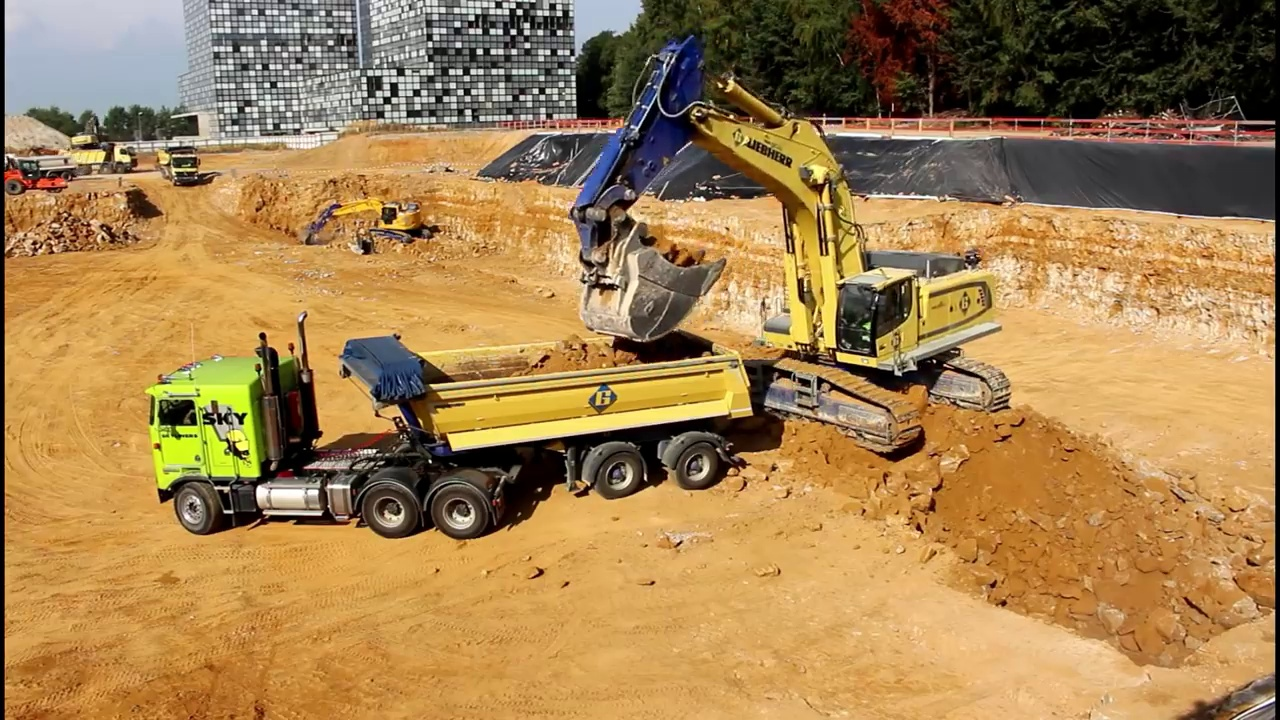compactor: (4, 157, 71, 198)
excavator: (560, 24, 1016, 457), (291, 195, 440, 258), (68, 113, 126, 154)
truck: (140, 307, 760, 544), (152, 137, 208, 192), (52, 145, 139, 178), (2, 147, 77, 182)
